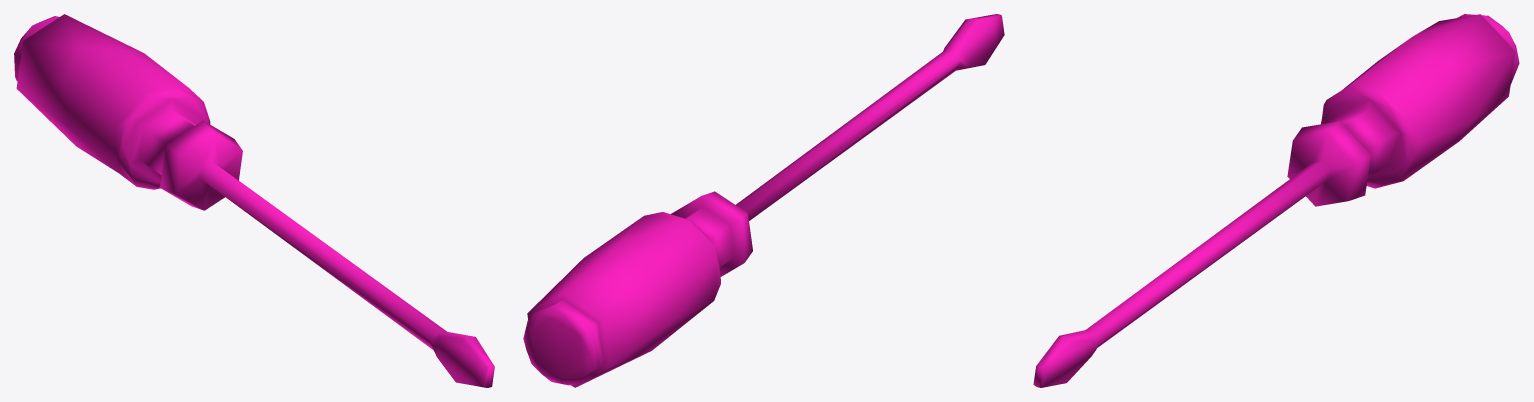
Rendered from screwdriver2_5.dae.
3 views of the same model, side by side, from view 1: azimuth 30°, elevation 25°; view 2: azimuth 150°, elevation 25°; view 3: azimuth 330°, elevation 25° (orthographic).
Parts seen in each view (by area): view 1: screwdriver2_019; view 2: screwdriver2_019; view 3: screwdriver2_019.
Boxes of the visible parts, x1=… form: screwdriver2_019: x1=14, y1=14, x2=494, y2=387; screwdriver2_019: x1=523, y1=14, x2=1004, y2=387; screwdriver2_019: x1=1033, y1=14, x2=1519, y2=387.
Size of the model in its own units: 0.0446 by 0.3474 by 0.0445.
